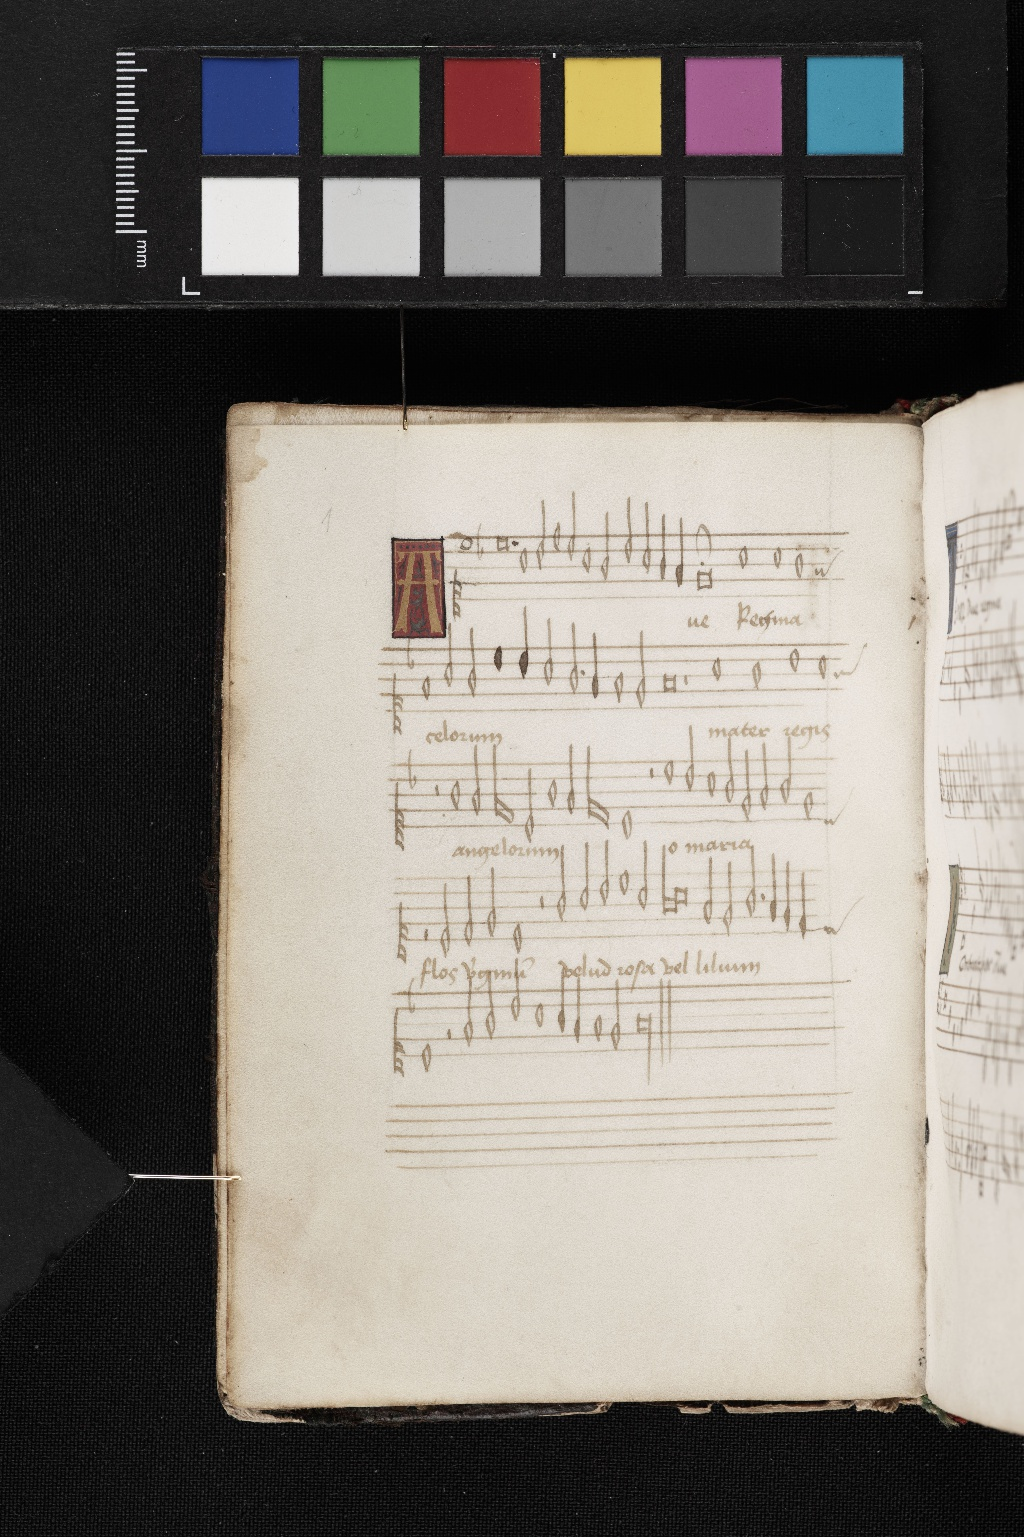barline: (656, 976, 679, 1064)
c clef_11: (389, 1026, 409, 1083)
flat_5: (402, 971, 421, 1019)
longa_8: (629, 1002, 658, 1083)
minim rest: (441, 1024, 455, 1063)
minim_5: (506, 966, 523, 1028)
minim_7: (480, 975, 499, 1046)
minim_8: (459, 979, 478, 1052)
minim_9: (607, 978, 625, 1055)
semibreve_11: (417, 1036, 438, 1079)
semibreve_6: (529, 996, 549, 1033)
semibreve_8: (589, 1008, 607, 1047)
semiminim_7: (552, 969, 566, 1040)
semiminim_8: (571, 979, 584, 1050)
